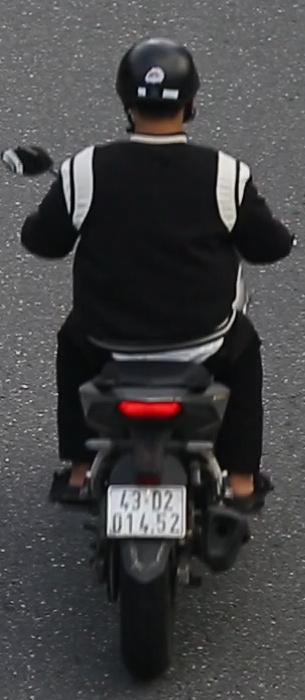LP: (100, 481, 191, 550)
helmet: (112, 31, 202, 142)
